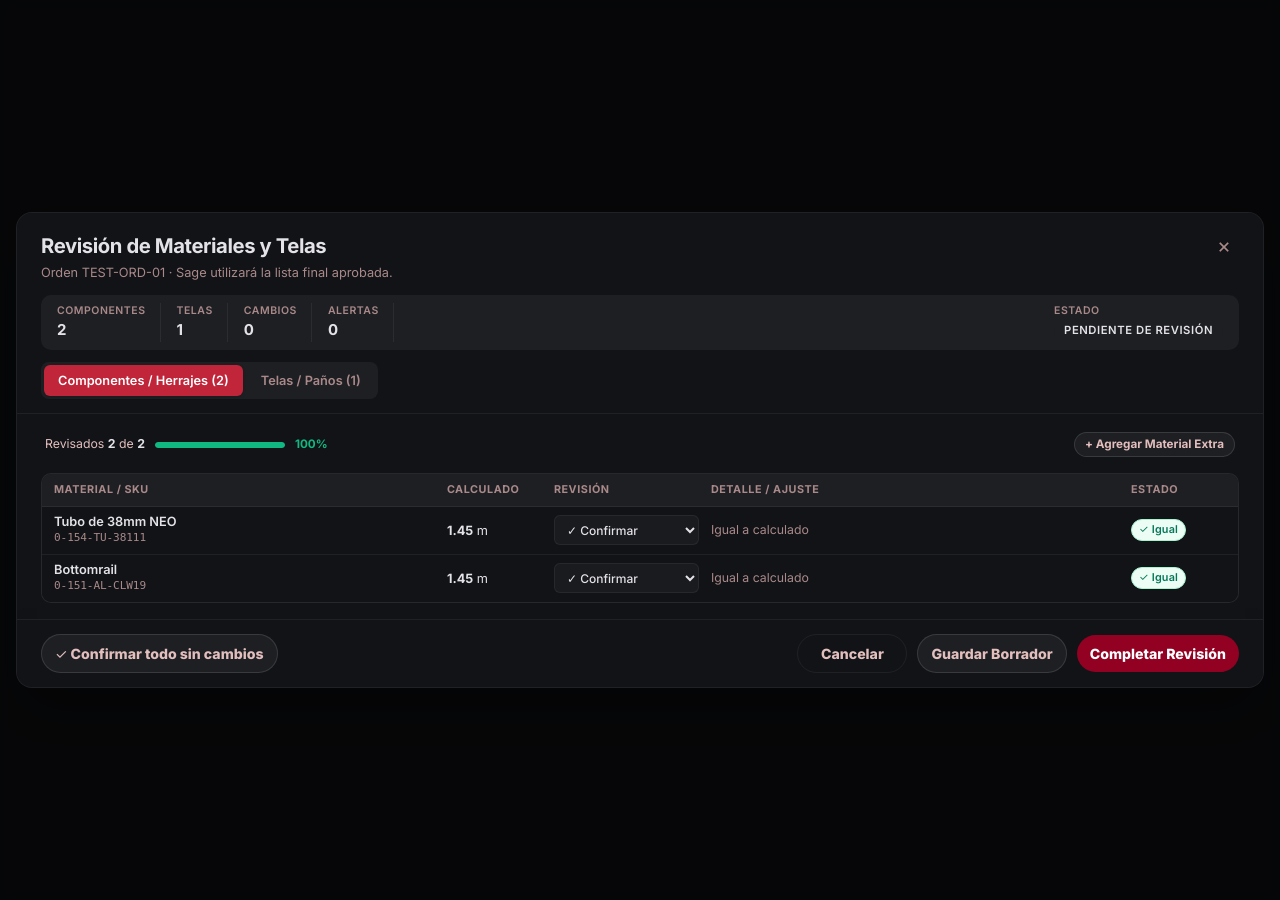
Test case: MaterialReviewModal — Safe Empty State & Integrity Protection › 2. Normal Orders with Items & Materials › renders components and fabrics accurately with enabled controls
This screenshot has width=1280, height=900.
Check: the text "Tubo de 38mm NEO" is shown, box [54,514,177,529]
Check: the text "Bottomrail" is shown, box [54,562,117,577]
Switch to fabrics tab
Click the button "Telas / Paños (1)" at (311, 381), box [247,365,375,396]
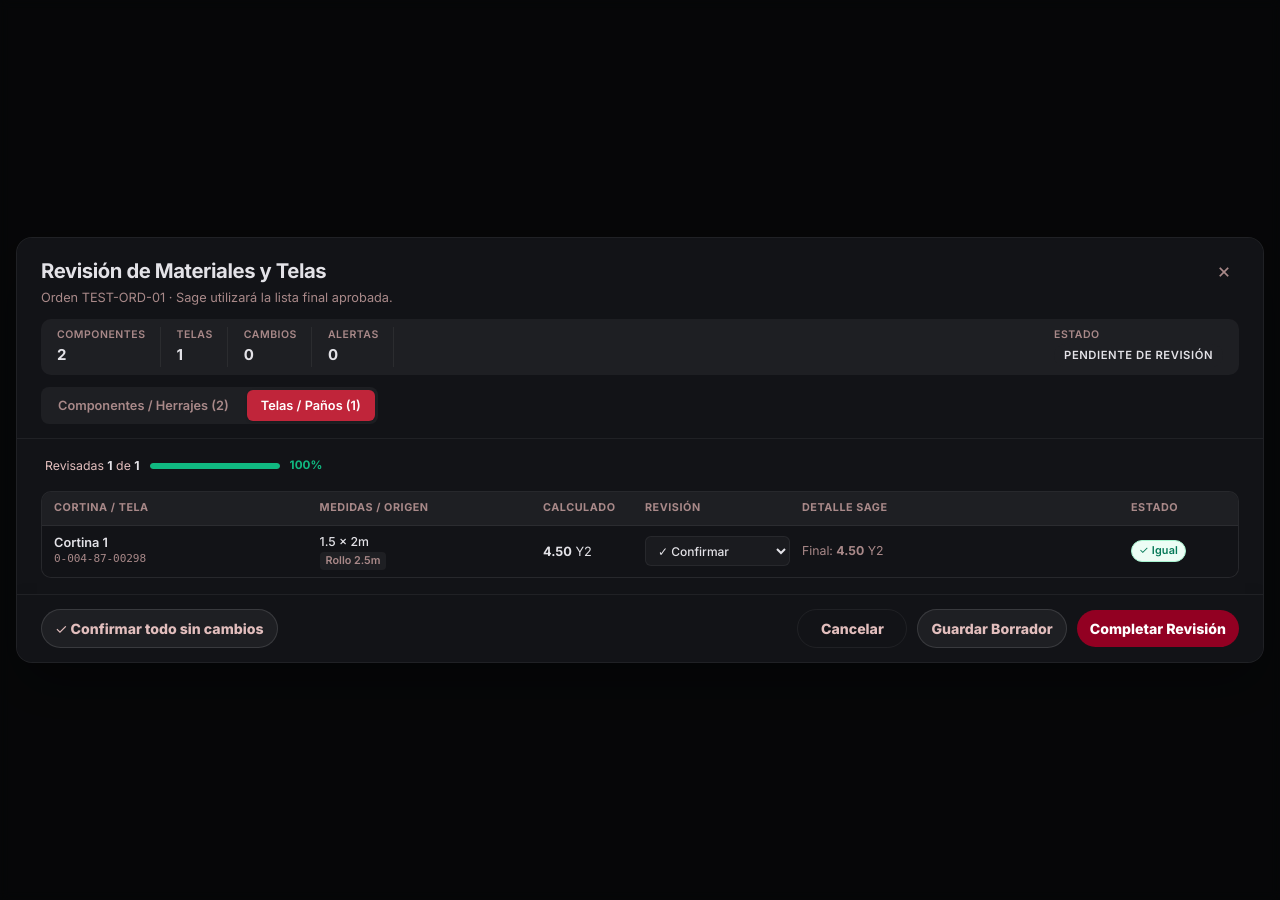
Check: the text "Cortina 1" is shown, box [54,535,108,550]
Check: the text "0-004-87-00298" is shown, box [54,551,146,568]
